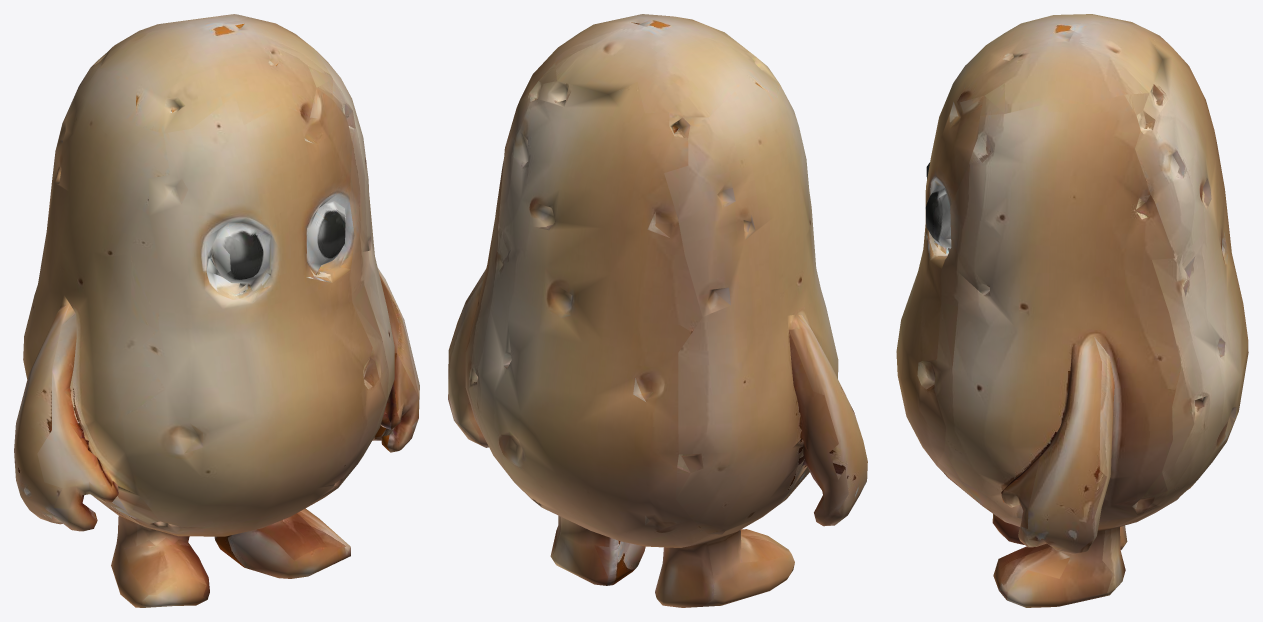
The model's file is potato-low.glb.
3 renders of one model, left to right at view 1: azimuth 30°, elevation 25°; view 2: azimuth 150°, elevation 25°; view 3: azimuth 270°, elevation 25°, orthographic. The views are drawn at different scales.
Visible parts, largest first — view 1: potato_LOD1; view 2: potato_LOD1; view 3: potato_LOD1.
Boxes of the visible parts, x1,y1,x2,y2 form: potato_LOD1: (14, 14, 419, 607); potato_LOD1: (448, 14, 867, 607); potato_LOD1: (896, 14, 1248, 607).
Size of the model in its own units: 0.745 by 0.9872 by 0.5818.
1 material, 1 textured.
